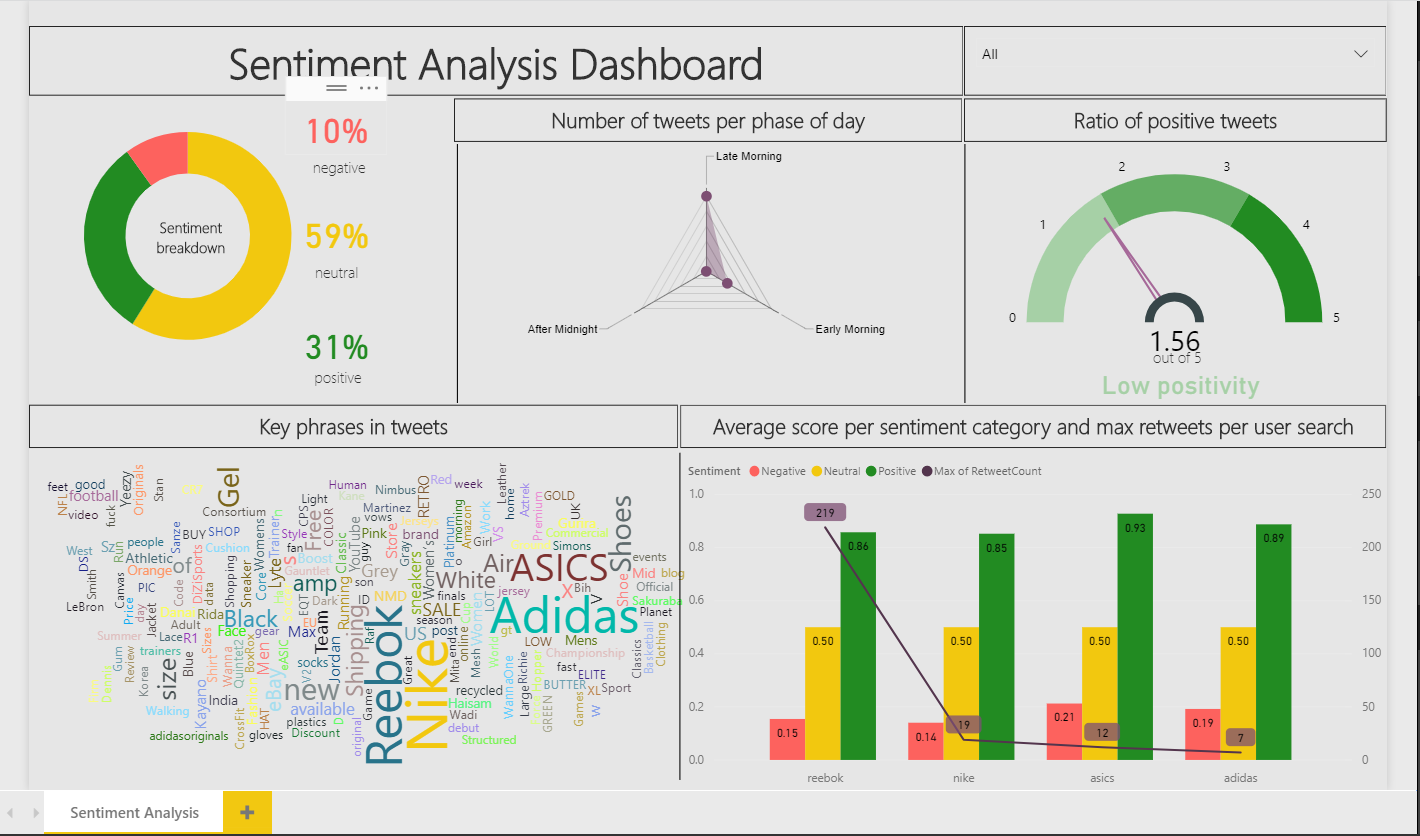

This screenshot's page, from the dashboard's own definition file:
{"tool":"powerbi","page":{"name":"Sentiment Analysis","canvas":[1280,720],"ordinal":0},"visuals":[{"type":"textbox","box":[0,0,880.7,65.6],"z":0},{"type":"textbox","box":[0,357.6,611.8,41.2],"z":1000},{"type":"textbox","box":[614.1,357.6,665.9,41.2],"z":2000},{"type":"textbox","box":[400.9,68.2,479.1,41.2],"z":3000},{"type":"donutChart","fields":{"Series":["Sentiments.Sentiment"],"Y":["SearchResults.Tweets"]},"box":[0,70.8,299.7,254.7],"z":4000},{"type":"WordCloud1447959067750","fields":{"Category":["SearchResults.Key Phrases"]},"box":[0,400.3,702.4,320.1],"z":5000},{"type":"slicer","fields":{"Values":["UserSearch.QueryText"]},"box":[882,0,398,65.6],"z":8000},{"type":"textbox","box":[112.2,176,81,65.6],"z":9000},{"type":"lineClusteredColumnComboChart","fields":{"Category":["UserSearch.QueryText"],"Y":["Avg(SearchResults.Sentiment Score)"],"Series":["Sentiments.Sentiment"],"Y2":["Max(SearchResults.RetweetCount)"]},"box":[616.7,400.1,663.3,320.3],"z":10000},{"type":"textbox","box":[1055.1,298.7,72,36],"z":11000},{"type":"textbox","box":[255,316.5,73.3,28.3],"z":13000},{"type":"textbox","box":[253.9,218.2,73.3,36],"z":14000},{"type":"textbox","box":[255.5,118.6,73.3,33.4],"z":15000},{"type":"textbox","box":[881.2,68.2,398.8,41.2],"z":18000},{"type":"basicShape","box":[856.8,101.6,51.5,264.2],"z":19000},{"type":"basicShape","box":[378.2,101.6,51.5,264.2],"z":20000},{"type":"basicShape","box":[587.9,392.4,51.5,328],"z":21000},{"type":"RadarChart1446119667547","fields":{"Category":["DateTimeTable.Period of Day"],"Y":["SearchResults.Tweets"]},"box":[399.8,106.8,478.8,248.3],"z":22000},{"type":"Tachometer1474636471549","fields":{"Range2StartValue":["SearchResults.NeutralStartValue"],"Range3StartValue":["SearchResults.PositiveStartValue"],"EndValue":["SearchResults.GaugeEndValue"],"StartValue":["SearchResults.GaugeStartValue"],"Y":["SearchResults.RatioOfPositives"]},"box":[881.2,97.8,397.5,228.2],"z":22500},{"type":"PBI_CV_7B952816_A48F_49B4_9E13_15E3BB2C0337","fields":{"Values":["SearchResults.EvaluatePositiveRatio"],"TargetValue":["SearchResults.RatioOfPositives"]},"box":[953,318.8,266.3,41.2],"z":23000},{"type":"card","fields":{"Values":["SearchResults.RatioOfNegativeTweets"]},"box":[241.6,70.5,96.5,51.5],"z":23500},{"type":"card","fields":{"Values":["SearchResults.RatioOfNeutralTweets"]},"box":[241.6,169.6,96.5,51.5],"z":24000},{"type":"card","fields":{"Values":["SearchResults.RatioOfPositiveTweets"]},"box":[242.9,274,95.2,51.5],"z":24500}]}

Visuals, with their boxes on the page's 1280x720 design canvas (x1, y1, x2, y2). These are canvas units, not pixel positions in the 1420x836 screenshot, which may show the page scaled, cropped or inside an application window:
textbox: x1=0, y1=0, x2=881, y2=66
textbox: x1=0, y1=358, x2=612, y2=399
textbox: x1=614, y1=358, x2=1280, y2=399
textbox: x1=401, y1=68, x2=880, y2=109
donutChart - Sentiments.Sentiment x SearchResults.Tweets: x1=0, y1=71, x2=300, y2=326
WordCloud1447959067750 - SearchResults.Key Phrases: x1=0, y1=400, x2=702, y2=720
slicer - UserSearch.QueryText: x1=882, y1=0, x2=1280, y2=66
textbox: x1=112, y1=176, x2=193, y2=242
lineClusteredColumnComboChart - UserSearch.QueryText x Avg(SearchResults.Sentiment Score): x1=617, y1=400, x2=1280, y2=720
textbox: x1=1055, y1=299, x2=1127, y2=335
textbox: x1=255, y1=316, x2=328, y2=345
textbox: x1=254, y1=218, x2=327, y2=254
textbox: x1=256, y1=119, x2=329, y2=152
textbox: x1=881, y1=68, x2=1280, y2=109
basicShape: x1=857, y1=102, x2=908, y2=366
basicShape: x1=378, y1=102, x2=430, y2=366
basicShape: x1=588, y1=392, x2=639, y2=720
RadarChart1446119667547 - DateTimeTable.Period of Day x SearchResults.Tweets: x1=400, y1=107, x2=879, y2=355
Tachometer1474636471549 - SearchResults.NeutralStartValue x SearchResults.PositiveStartValue: x1=881, y1=98, x2=1279, y2=326
PBI_CV_7B952816_A48F_49B4_9E13_15E3BB2C0337 - SearchResults.EvaluatePositiveRatio x SearchResults.RatioOfPositives: x1=953, y1=319, x2=1219, y2=360
card - SearchResults.RatioOfNegativeTweets: x1=242, y1=70, x2=338, y2=122
card - SearchResults.RatioOfNeutralTweets: x1=242, y1=170, x2=338, y2=221
card - SearchResults.RatioOfPositiveTweets: x1=243, y1=274, x2=338, y2=326
